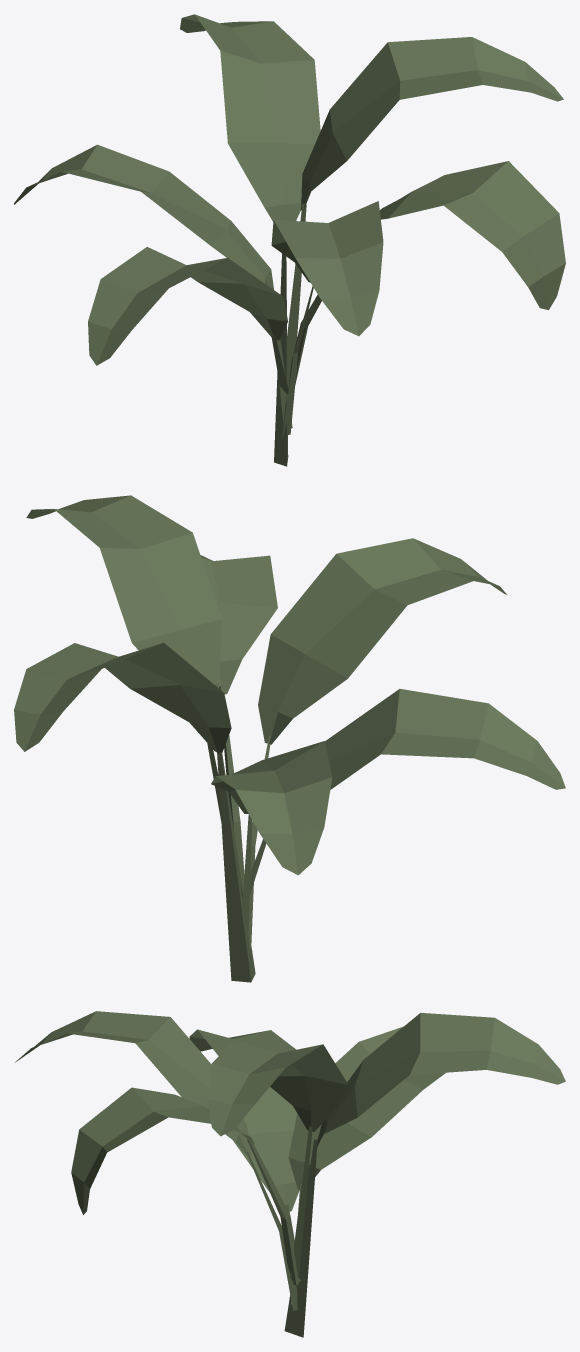
Rendered from FernTall.fbx.
The picture shows the model from 3 angles, top to bottom: view 1: azimuth 30°, elevation 25°; view 2: azimuth 150°, elevation 25°; view 3: azimuth 270°, elevation 25°; orthographic projection. The views are drawn at different scales.
Parts seen in each view (by area): view 1: Fern_Tall1; view 2: Fern_Tall1; view 3: Fern_Tall1.
Part boxes in pixels (x1=…): Fern_Tall1: x1=14, y1=14, x2=565, y2=466; Fern_Tall1: x1=14, y1=495, x2=565, y2=982; Fern_Tall1: x1=15, y1=1011, x2=565, y2=1337.
Bounding box in the file's own units: 245 × 188 × 271.
